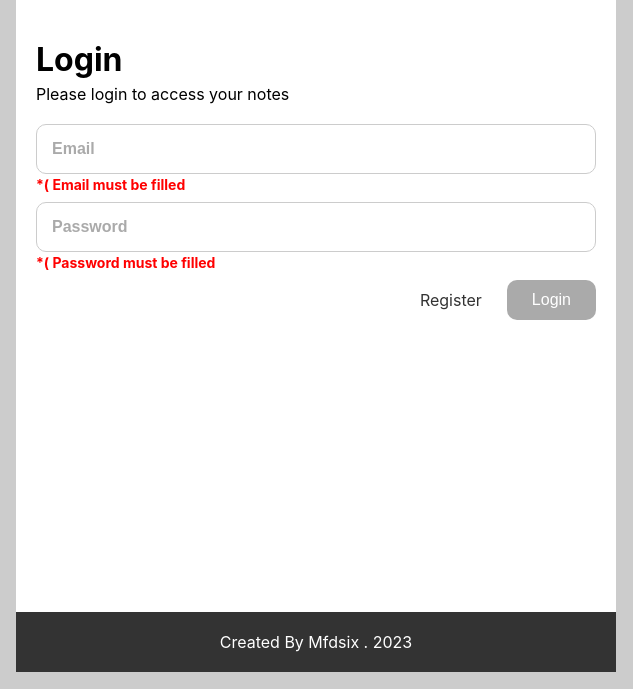
Test: login account › enable login button
Type "email@mail.com" into the field with placeholder "Email" at (316, 149), box [36,124,596,174]
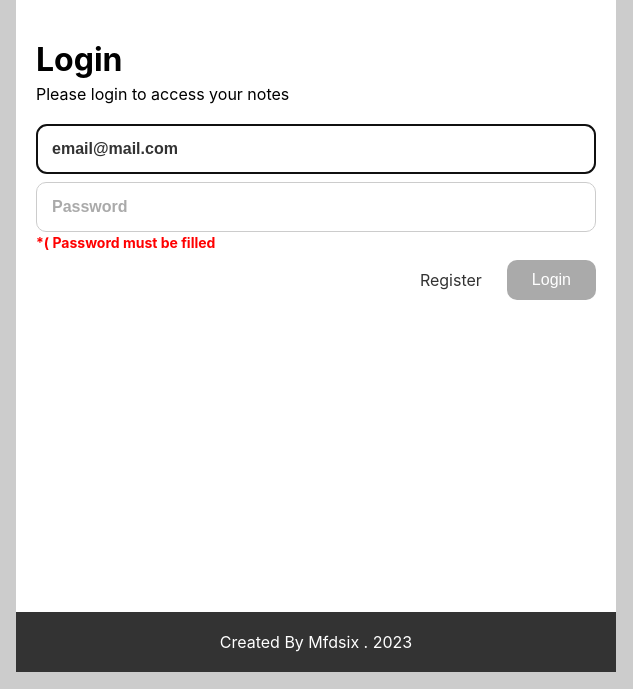
Type "password" into the password field with placeholder "Password" at (316, 207), box [36,182,596,232]
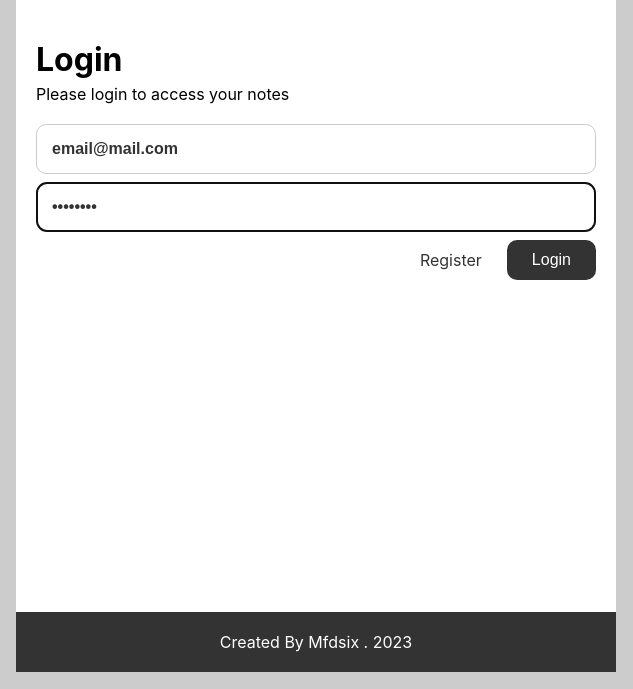
Result: the button "Login" is enabled at [507,240,596,280]
